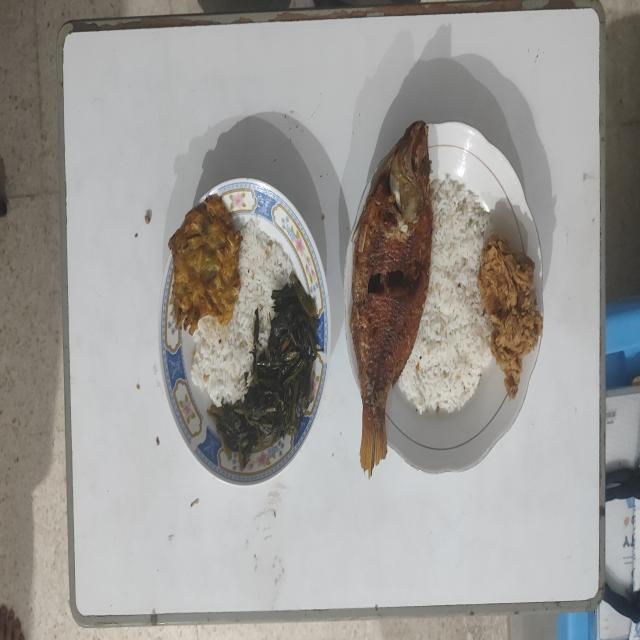ikan_mujair: (349, 120, 433, 476)
nasi_putih: (398, 175, 493, 414), (191, 219, 292, 406)
tumis_kangkung: (208, 274, 319, 470)
